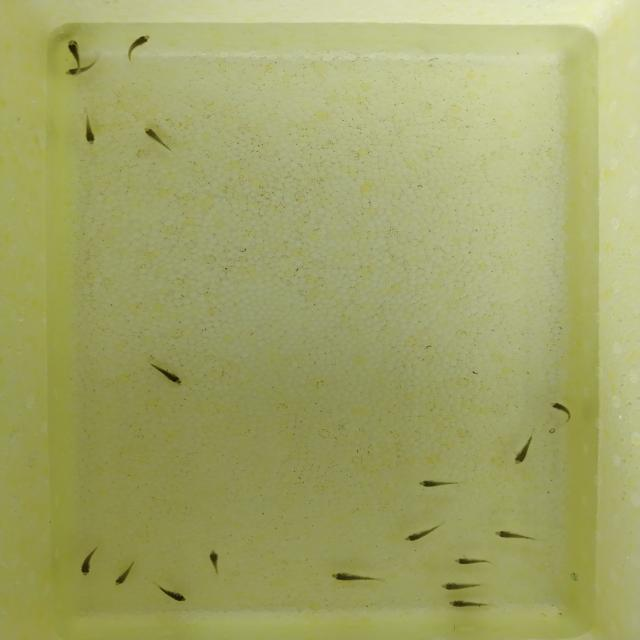fingerling: (143, 359, 190, 388), (121, 32, 155, 67), (74, 542, 106, 579), (139, 125, 177, 156), (399, 520, 446, 545), (325, 569, 387, 586), (487, 527, 547, 544), (111, 557, 140, 590), (512, 427, 536, 466), (150, 580, 189, 604), (546, 400, 578, 426), (202, 546, 228, 578), (433, 580, 489, 593), (81, 108, 99, 148), (414, 477, 466, 490), (450, 554, 498, 568), (443, 598, 494, 610), (63, 36, 84, 62), (61, 66, 91, 78)
